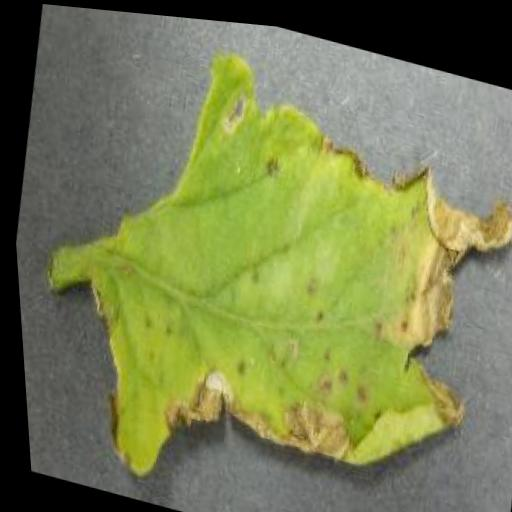Bacterial Spot: (42, 14, 512, 512)
